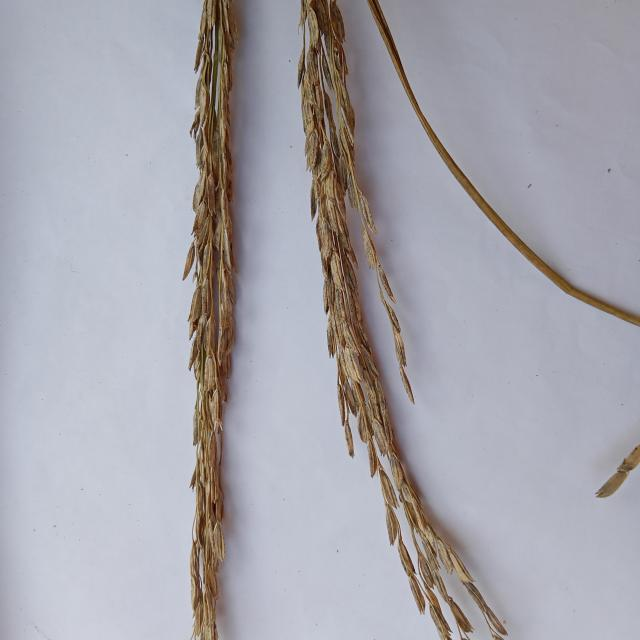Neck_Blast: (301, 1, 430, 539), (190, 1, 232, 630)
